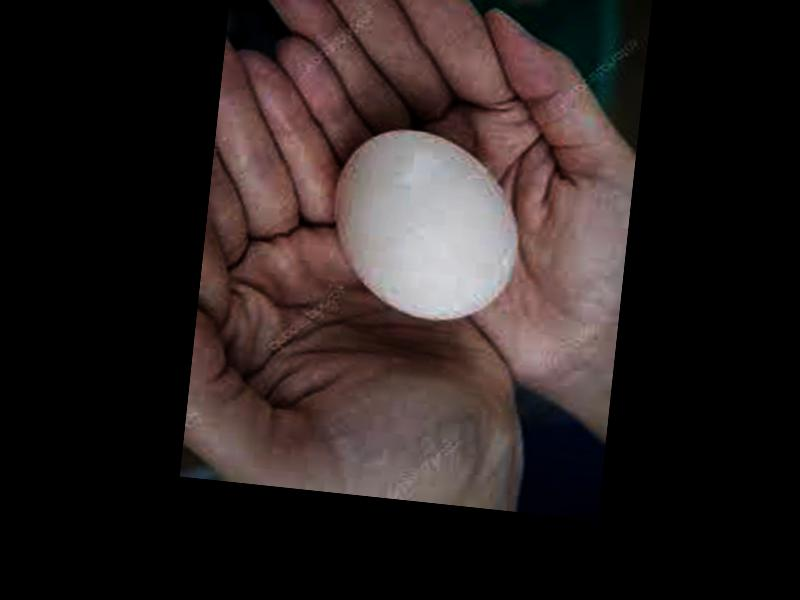Eggs: (328, 123, 523, 326)
